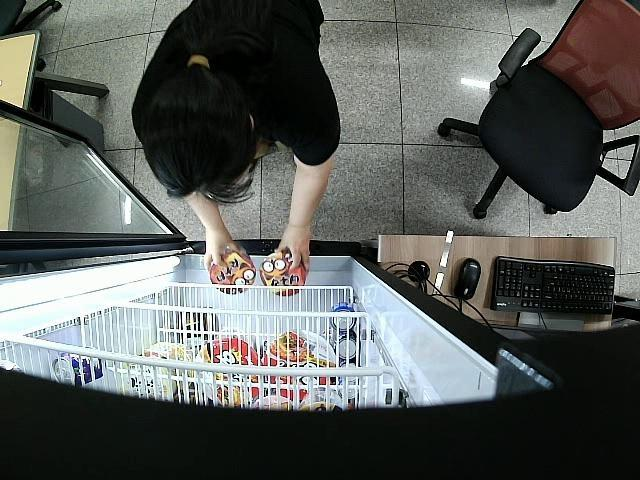05_nuguri_L: (259, 250, 307, 298), (209, 248, 254, 294)
